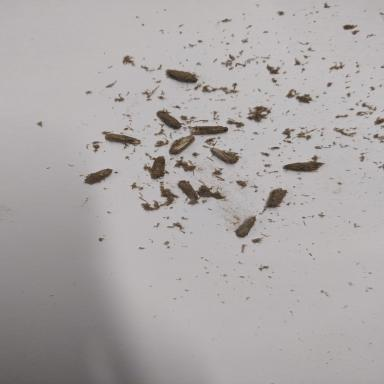pbw: (78, 167, 116, 186), (147, 111, 186, 129), (145, 155, 173, 180), (163, 66, 201, 84), (260, 187, 291, 208), (103, 131, 143, 147), (189, 122, 233, 136), (285, 158, 323, 174), (174, 182, 206, 201), (235, 214, 262, 236), (204, 148, 241, 164), (170, 134, 196, 153)
